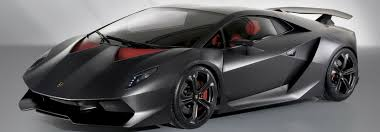Lamborghini: (26, 5, 359, 115)
